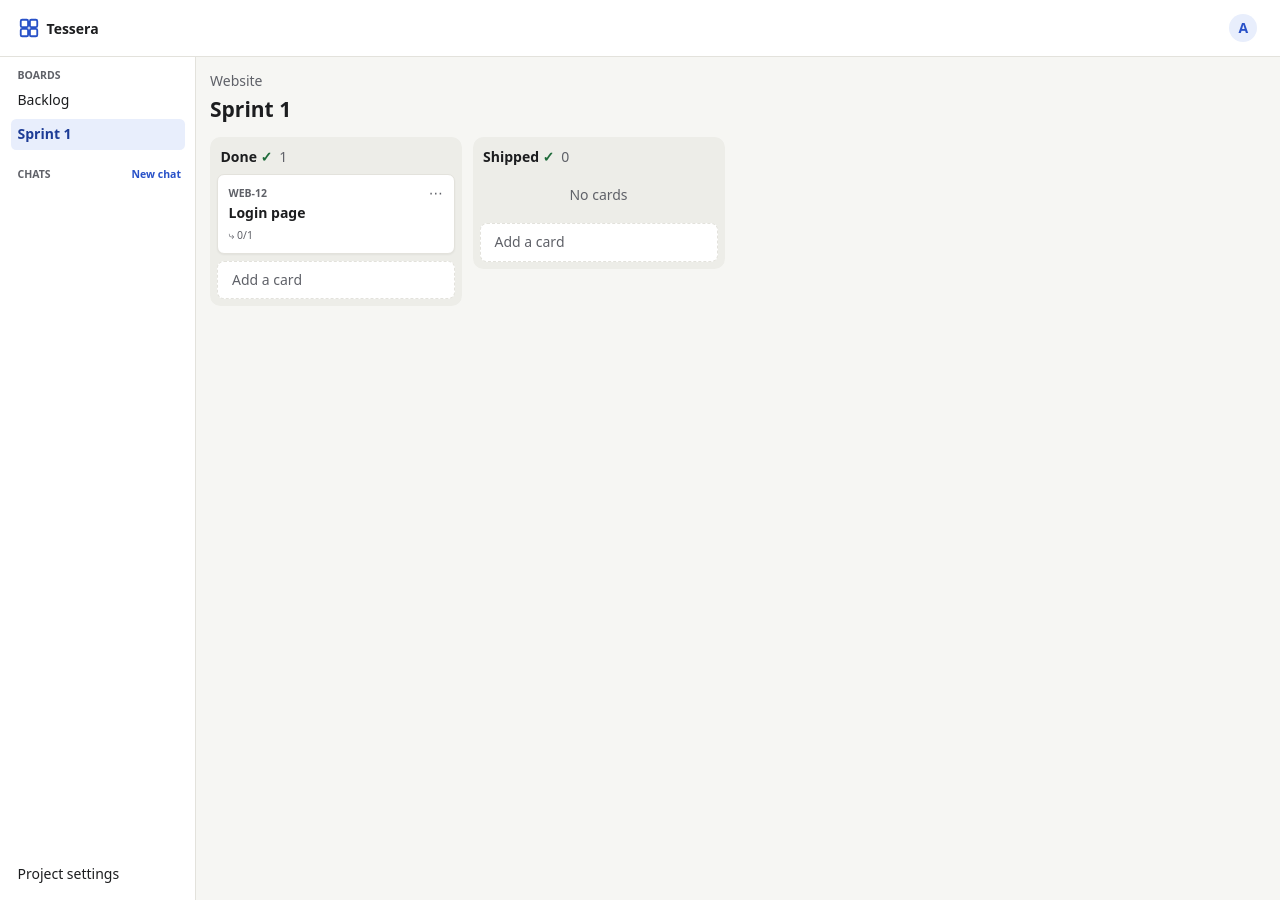
Test: Board › asks for a reopened card moving between done columns
What coordinates should you click on to do the following:
click the button named "Move WEB-12 to…"
I would click on:
 (436, 193)
Its box is [420, 178, 452, 209].
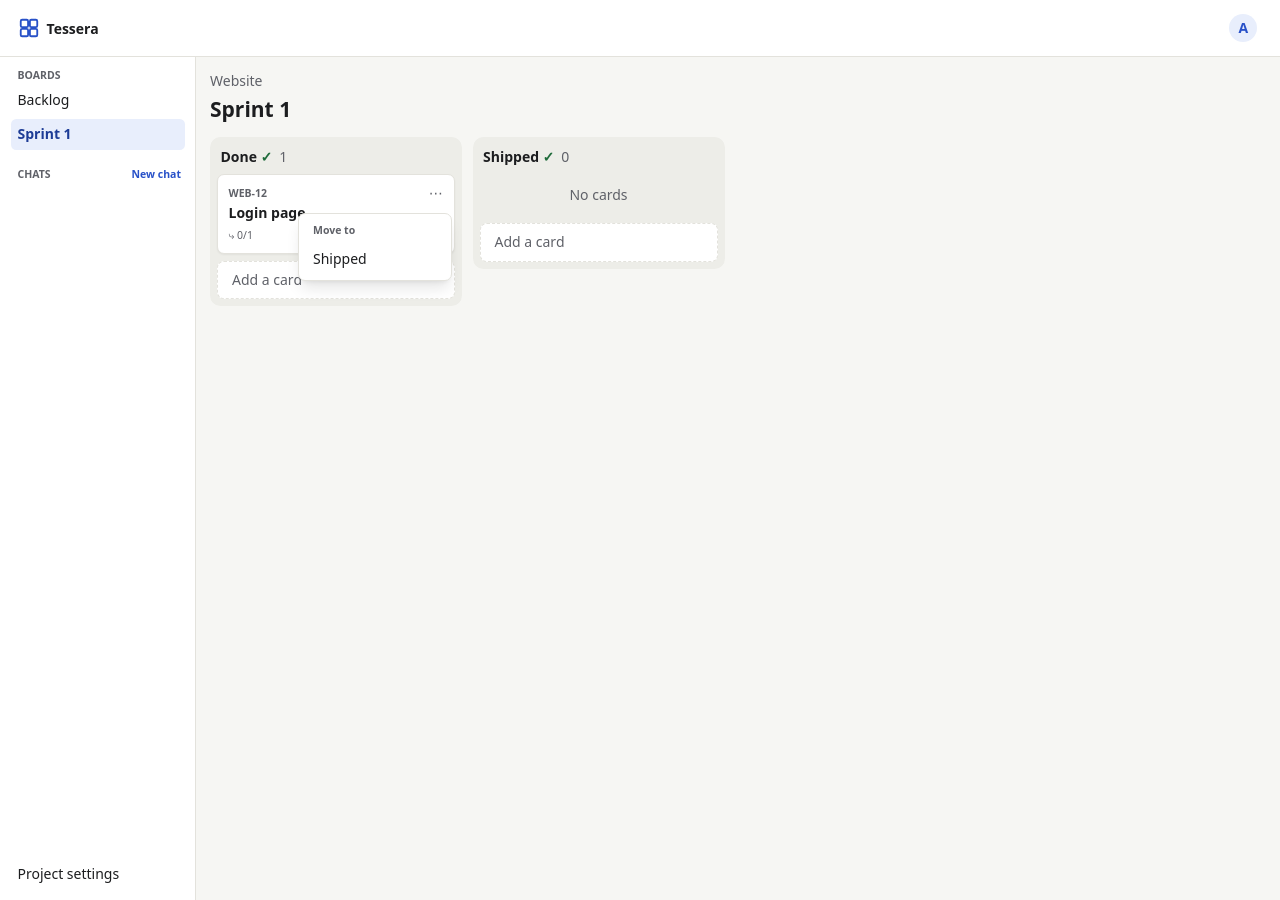
What coordinates should you click on to do the following:
click the menu item "Shipped"
I would click on:
 (340, 258)
Its box is [313, 249, 367, 268].
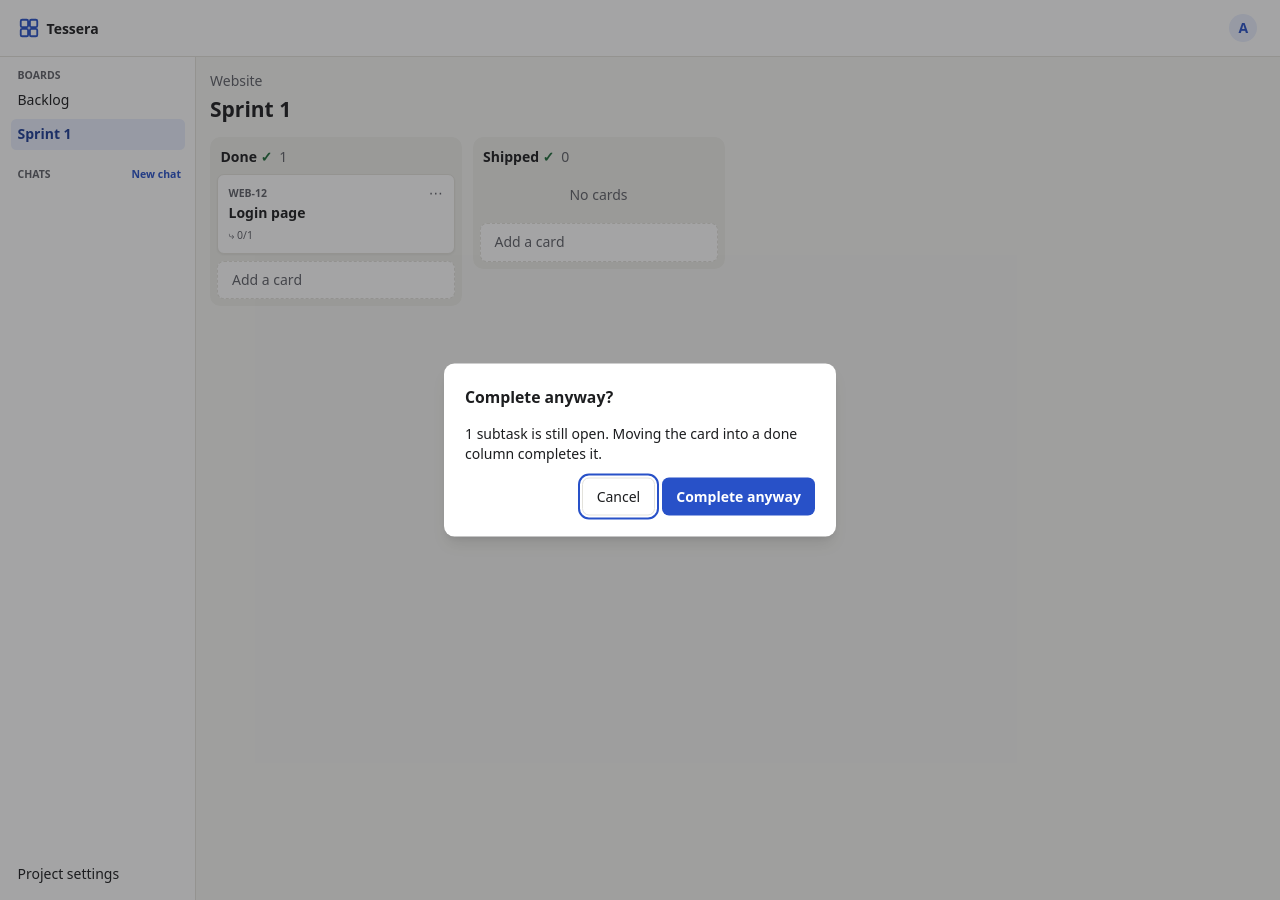
Now the dialog "Complete anyway?" shows "1 subtask is still open.", box [465, 423, 609, 442]
